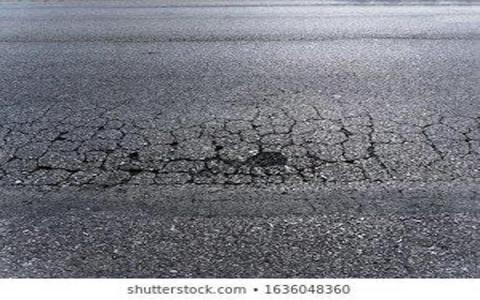patchy roads: (36, 59, 433, 233)
